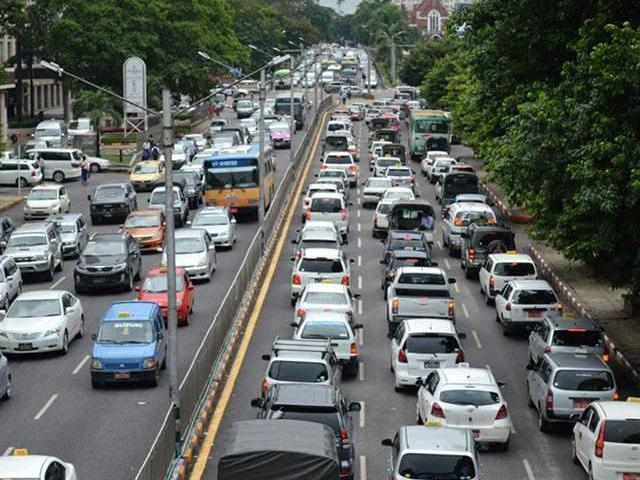bus: (205, 143, 274, 218), (408, 105, 450, 164), (272, 91, 308, 131), (272, 66, 296, 92)
